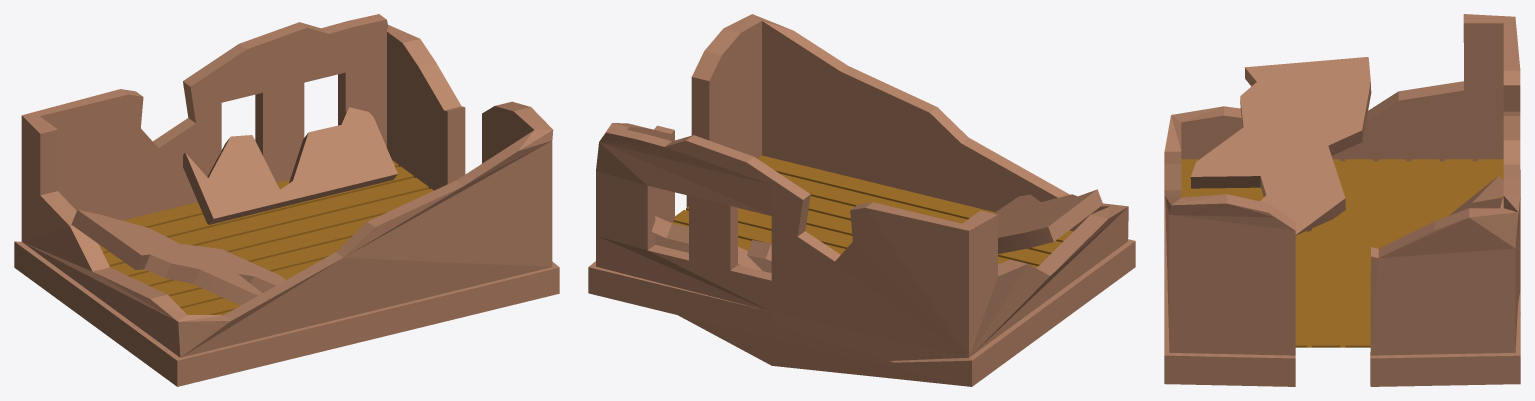
File: 04 Broken_House_2.FBX
3 views of the same model, side by side, from view 1: azimuth 30°, elevation 25°; view 2: azimuth 150°, elevation 25°; view 3: azimuth 270°, elevation 25° (orthographic). The views are drawn at different scales.
Visible parts, largest first — view 1: House_2; view 2: House_2; view 3: House_2.
Part boxes in pixels (left/top/right/bottom): House_2: left=14, top=14, right=559, bottom=386; House_2: left=588, top=14, right=1135, bottom=386; House_2: left=1164, top=14, right=1520, bottom=386.
Bounding box in the file's own units: 2251 × 1095 × 1590.
